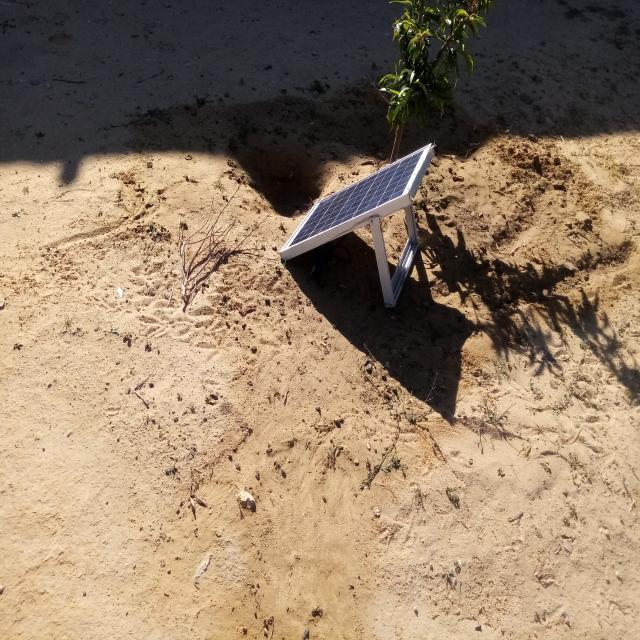Normal Solar Panel: (280, 143, 432, 252)
